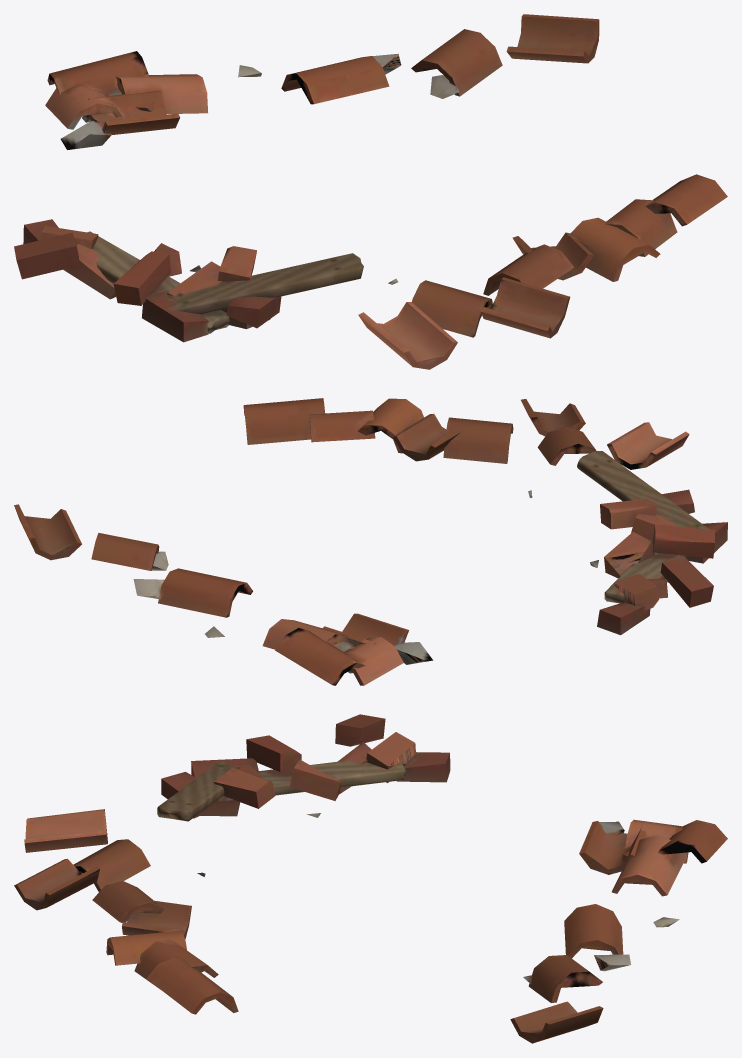
File: rough-town-1.low.glb
3 views of the same model, one above another, from view 1: azimuth 30°, elevation 25°; view 2: azimuth 150°, elevation 25°; view 3: azimuth 270°, elevation 25° (orthographic). The views are drawn at different scales.
Visible parts, largest first — view 1: rough-town-1; view 2: rough-town-1; view 3: rough-town-1.
Part boxes in pixels (box(x1,y1,x2,y2)): rough-town-1: box(14, 14, 727, 369); rough-town-1: box(14, 398, 727, 685); rough-town-1: box(14, 714, 727, 1043).
Bounding box in the file's own units: 1.82 × 0.154 × 1.78.
Materials: 1 (1 with a texture image).
